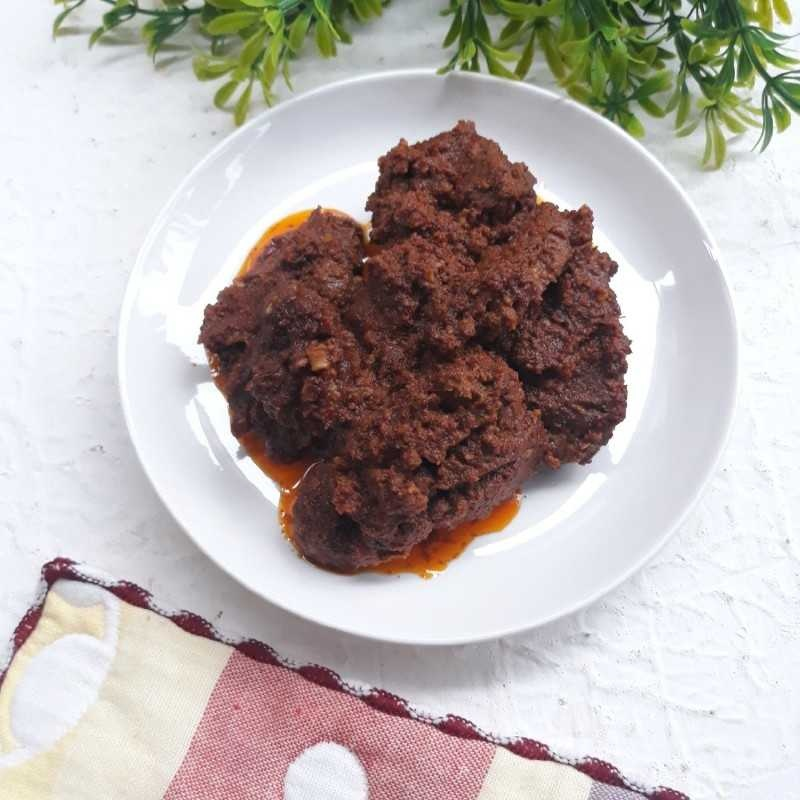Rendang: (197, 117, 637, 578)
